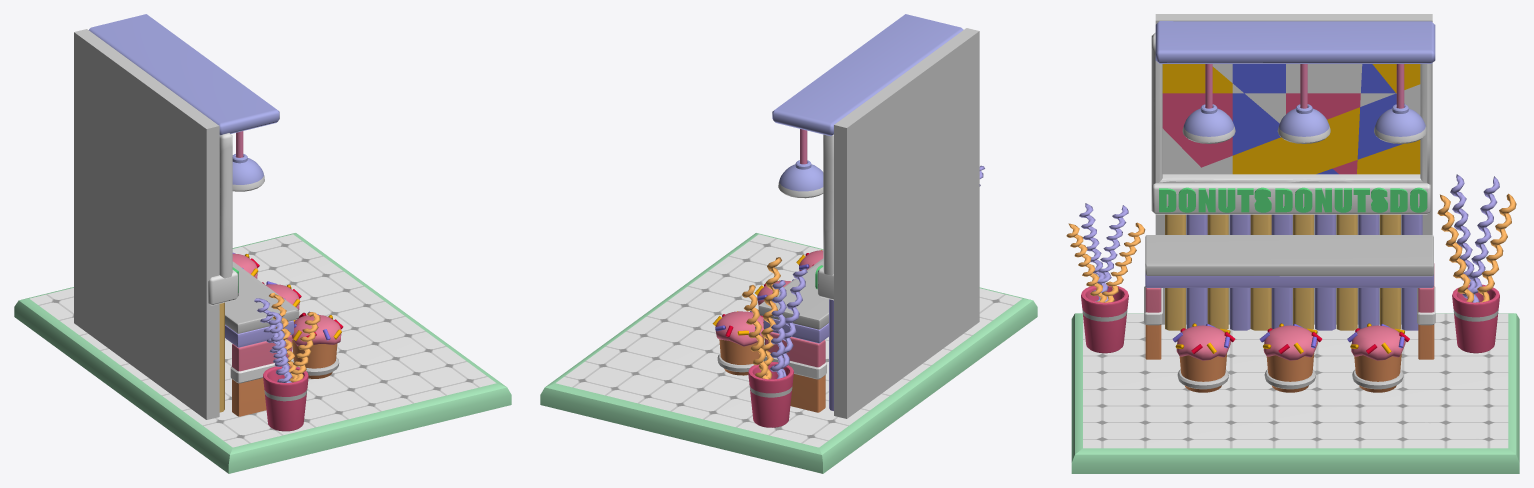
File: donut_stand.fbx
3 renders of one model, left to right at view 1: azimuth 30°, elevation 25°; view 2: azimuth 150°, elevation 25°; view 3: azimuth 270°, elevation 25°, orthographic. The views are drawn at different scales.
Parts seen in each view (by area): view 1: pCube21, pCube22, pCylinder18, pCube3, pCube1, pCylinder23, pCylinder20, pCube19, pCube18, pHelix3, pCube2, pHelix1 (+3 smaller); view 2: pCube21, pCube22, pCylinder18, pCube20, pCylinder24, pCylinder23, pCube1, pCube19, pHelix3, pHelix2, pHelix4, pHelix1 (+2 smaller); view 3: pCube22, pCube19, pCylinder18, pCube1, pCylinder23 (×2), pCube18, pCube21, pCube2, pCylinder20, pCylinder24, pCylinder21, typeMesh1 (+20 smaller).
Part boxes in pixels (x1,y1,x2,y2): pCube21: (74, 29, 219, 419); pCube22: (14, 233, 511, 473); pCylinder18: (89, 14, 279, 191); pCube3: (230, 335, 293, 416); pCube1: (225, 261, 299, 333); pCylinder23: (263, 365, 308, 431); pCylinder20: (291, 311, 343, 378); pCube19: (219, 133, 232, 278); pCube18: (208, 270, 238, 305); pHelix3: (289, 312, 320, 382); pCube2: (225, 320, 293, 347); pHelix1: (267, 311, 290, 382); pCube21: (834, 28, 979, 418); pCube22: (540, 233, 1037, 473); pCylinder18: (772, 14, 963, 198); pCube20: (763, 332, 826, 412); pCylinder24: (712, 311, 764, 375); pCylinder23: (748, 362, 793, 427); pCube1: (758, 258, 828, 329); pCube19: (823, 134, 833, 275); pHelix3: (758, 257, 781, 378); pHelix2: (770, 280, 786, 378); pHelix4: (742, 285, 769, 379); pHelix1: (774, 268, 807, 376); pCube22: (1071, 313, 1519, 473); pCube19: (1151, 32, 1431, 184); pCylinder18: (1155, 21, 1435, 143); pCube1: (1145, 235, 1433, 276); pCylinder23 (×2): (1081, 284, 1499, 353); pCube18: (1151, 183, 1431, 214); pCube21: (1155, 14, 1432, 324); pCube2: (1145, 273, 1433, 287); pCylinder20: (1172, 323, 1234, 392); pCylinder24: (1347, 323, 1409, 392); pCylinder21: (1259, 323, 1321, 392); typeMesh1: (1159, 187, 1271, 212).
Size of the model in its own units: 146 by 153 by 194.
Materials: 28 (1 with a texture image).
